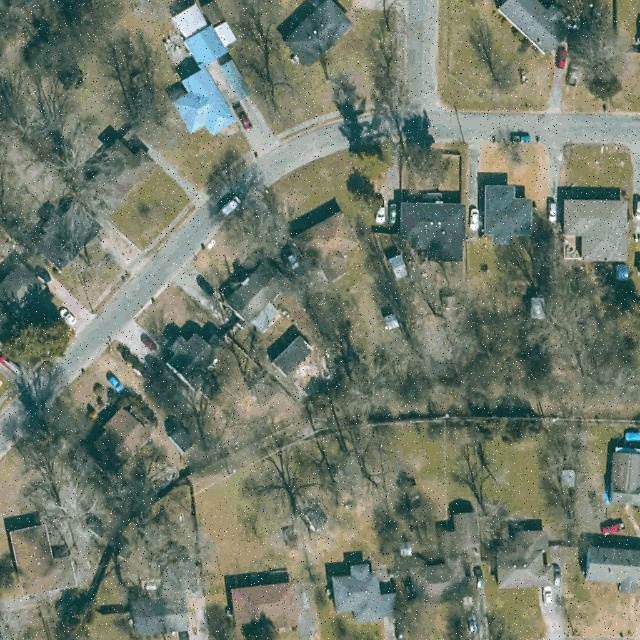vegetation: (0, 317, 74, 362)
